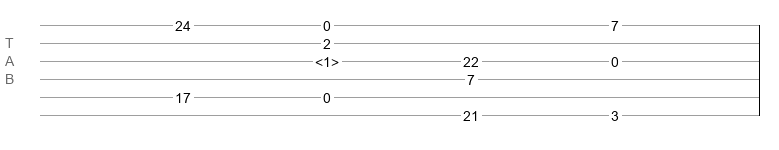0: (323, 18, 331, 28), (323, 90, 331, 100), (611, 54, 619, 64)
17: (175, 90, 191, 100)
2: (323, 36, 331, 46)
21: (463, 108, 479, 118)
22: (463, 54, 479, 64)
24: (175, 18, 191, 28)
3: (611, 108, 619, 118)
7: (467, 72, 475, 82), (611, 18, 619, 28)
harmonic: (315, 54, 339, 64)
